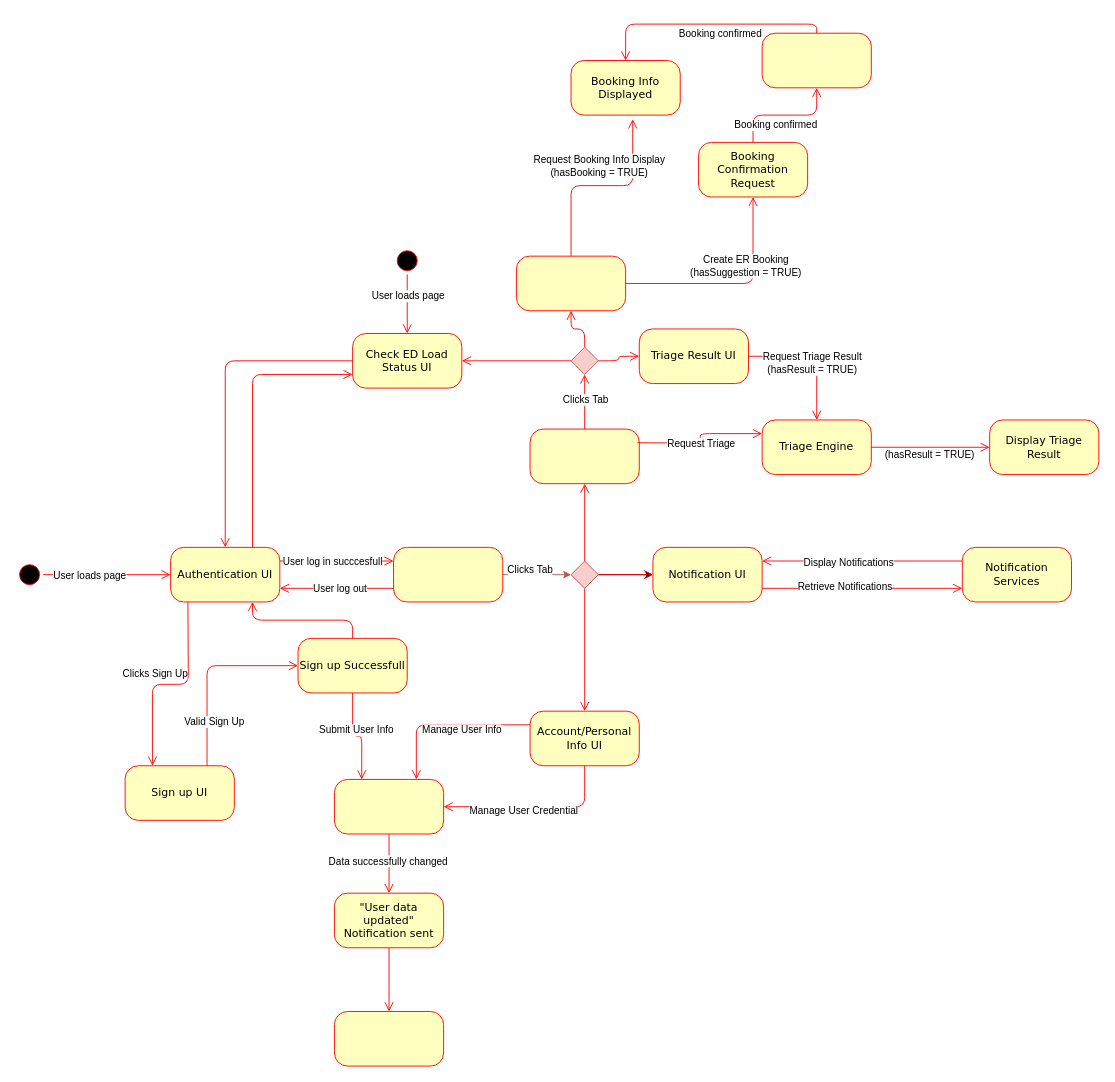
The diagram is 1115 pixels wide and 1082 high, and some of its shapes have lost their labels. Each missing label, with the centre of its shape:
Account Managment: (x=389, y=806)
Booking Confirmation Notification Sent: (x=816, y=60)
ERBookingUI: (x=571, y=283)
Main page UI: (x=448, y=574)
Successful Update: (x=389, y=1038)
Triage UI: (x=584, y=456)
